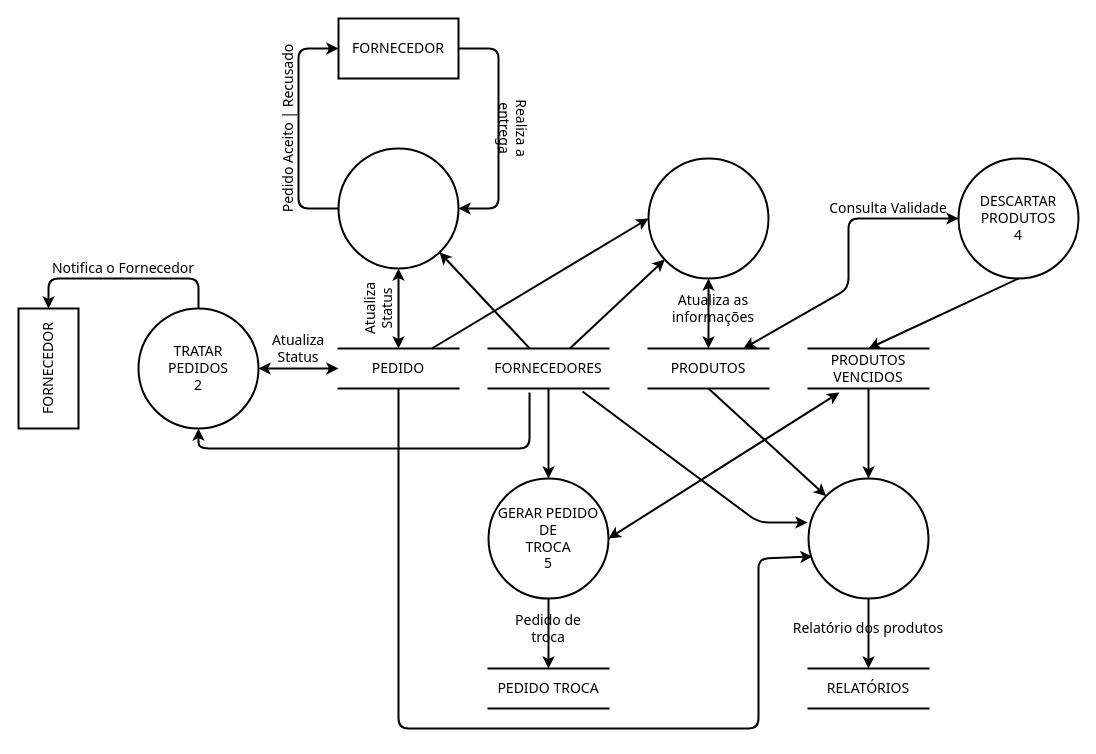
Some shapes in this 1096 by 754 pixel diagram are drawn without their labels. The shapes that lost their labels are listed below. From the top down, each one's centre as x and y in pixels, then its label:
point 398,208: CHECAR PEDIDO 1
point 708,218: GERENCIAR PRODUTOS 3
point 868,538: GERAR RELATÓRIO 6
